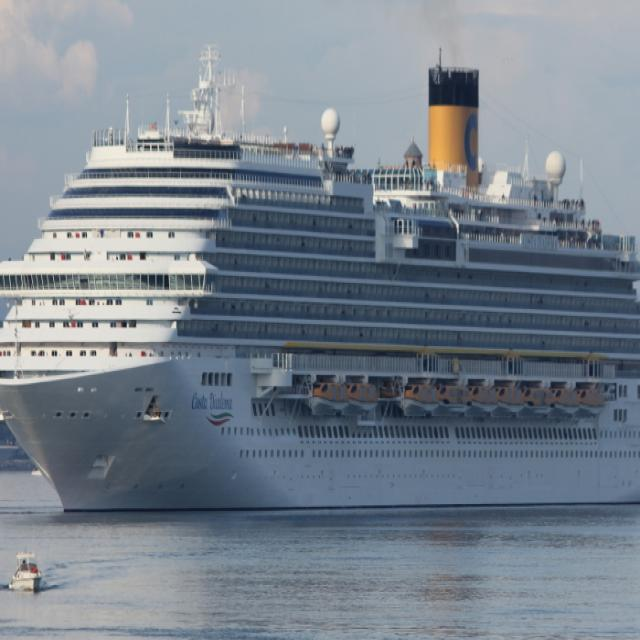cruises: (1, 45, 640, 530)
